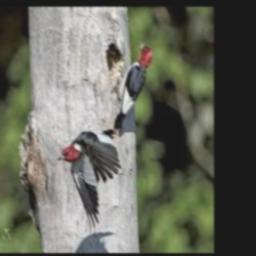Woodpecker: (57, 132, 121, 231), (113, 40, 152, 129)
